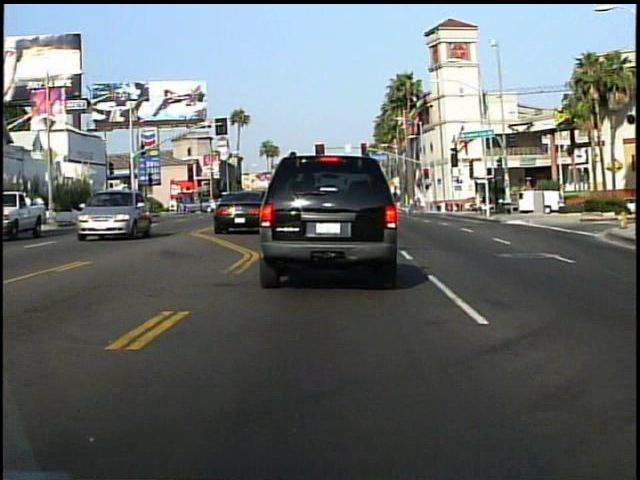person: (173, 187, 186, 220)
